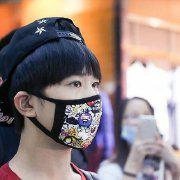OK: (28, 68, 103, 151)
WRONG: (122, 102, 156, 151)
